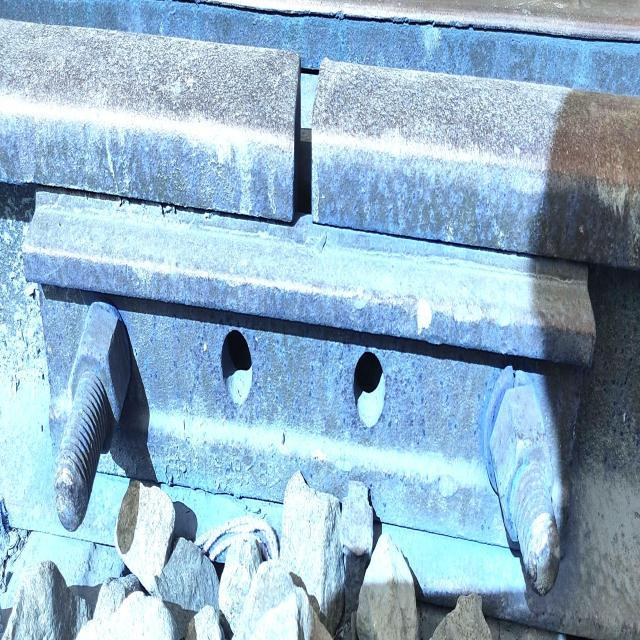Defective Joint: (22, 175, 609, 613)
